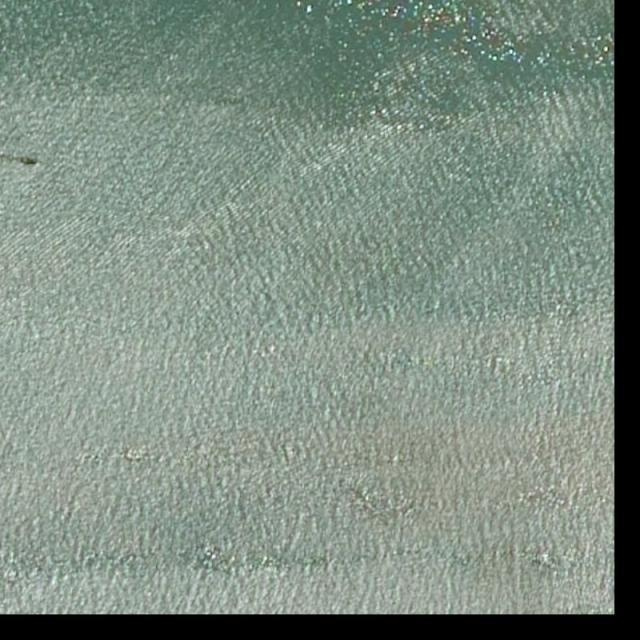ship: (22, 158, 41, 164)
